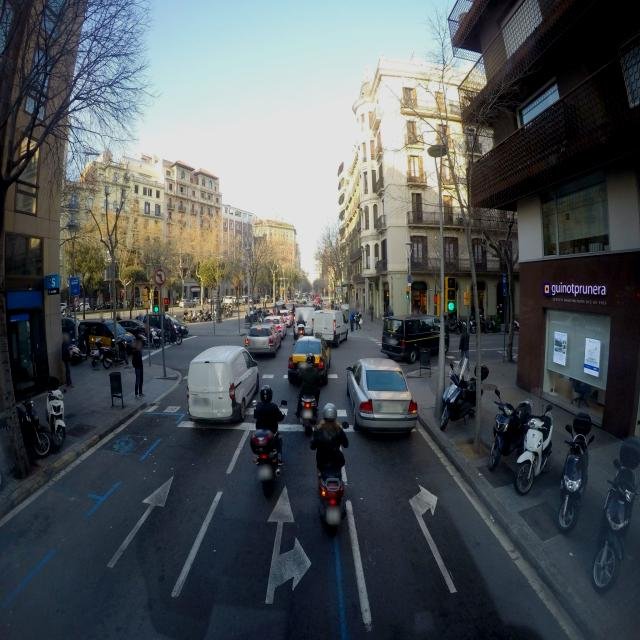bike: (591, 437, 640, 598), (307, 432, 351, 538), (513, 394, 557, 498), (559, 409, 594, 537), (487, 388, 533, 479), (438, 362, 489, 433), (248, 402, 284, 500), (16, 392, 48, 460), (46, 371, 66, 451), (295, 388, 323, 437), (102, 336, 129, 370), (70, 333, 88, 367), (160, 324, 183, 346), (137, 328, 160, 349), (90, 336, 104, 369), (296, 325, 306, 341)
car: (186, 344, 261, 429), (345, 357, 418, 438), (381, 316, 448, 364), (78, 320, 137, 358), (288, 337, 330, 388), (138, 312, 188, 344), (311, 309, 347, 347), (245, 324, 280, 358), (118, 319, 157, 348), (267, 316, 286, 339), (278, 311, 292, 327), (278, 314, 291, 329)
